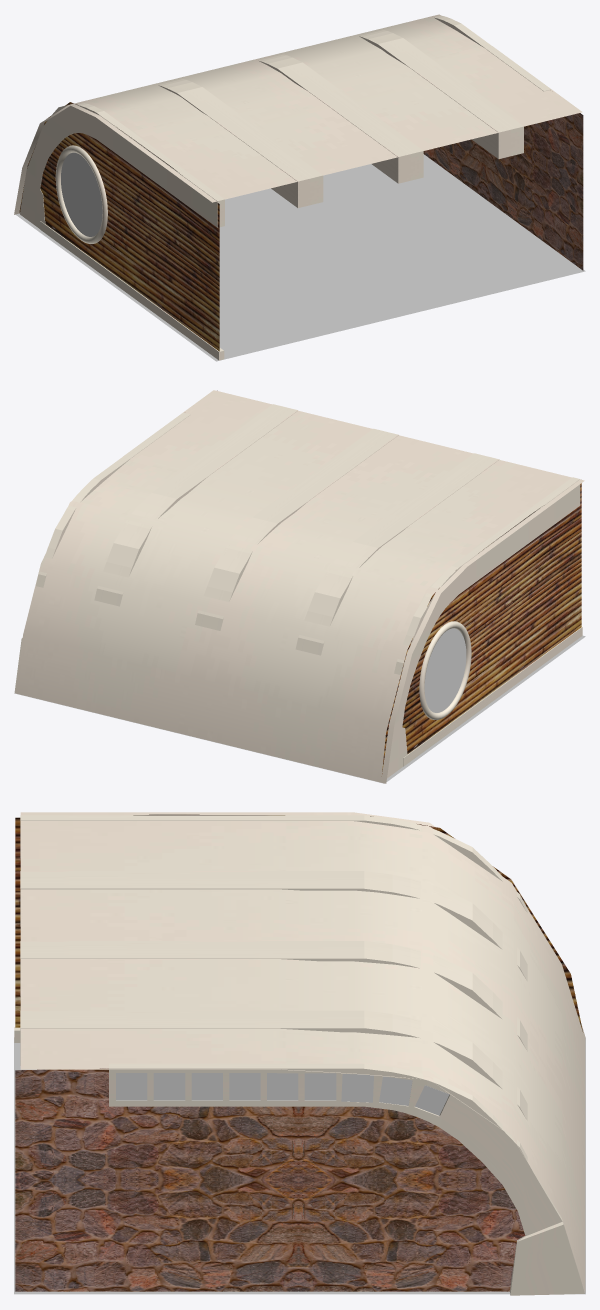
Rendered from entorno03.fbx.
The picture shows the model from 3 angles, top to bottom: view 1: azimuth 30°, elevation 25°; view 2: azimuth 150°, elevation 25°; view 3: azimuth 270°, elevation 25°; orthographic projection. The views are drawn at different scales.
Visible parts, largest first — view 1: Piso, Techo, paredBambu, BIGA, ParedPiedras, BigaPared, cristal, barraPiso, marcoCristal, BigaPared.001; view 2: Techo, BIGA, paredBambu, BigaPared, cristal, BigaPared.001, barraPiso, marcoCristal, Piso; view 3: Techo, ParedPiedras, BIGA, BigaPared.001, CuadradoCristal, BigaPared, Piso, paredBambu, CuCristal, CuCristal2, CuCristal3.
Boxes of the visible parts, box(x1,y1,x2,y2) form: Piso: box(15, 154, 585, 361); Techo: box(14, 14, 582, 214); paredBambu: box(19, 102, 219, 351); BIGA: box(158, 30, 523, 207); ParedPiedras: box(423, 113, 583, 270); BigaPared: box(20, 103, 224, 228); cristal: box(61, 152, 102, 236); barraPiso: box(40, 221, 224, 360); marcoCristal: box(55, 145, 107, 243); BigaPared.001: box(434, 15, 550, 91); Techo: box(15, 390, 584, 783); BIGA: box(94, 404, 499, 655); paredBambu: box(381, 483, 581, 776); BigaPared: box(387, 477, 580, 778); cristal: box(424, 628, 466, 712); BigaPared.001: box(14, 412, 190, 693); barraPiso: box(403, 627, 582, 766); marcoCristal: box(419, 621, 471, 719); Piso: box(14, 635, 585, 783); Techo: box(20, 812, 585, 1292); ParedPiedras: box(15, 1068, 525, 1291); BIGA: box(20, 871, 527, 1120); BigaPared.001: box(109, 1063, 584, 1295); CuadradoCristal: box(116, 1073, 336, 1100); BigaPared: box(20, 815, 527, 913); Piso: box(14, 1037, 585, 1294); paredBambu: box(15, 814, 583, 1032); CuCristal: box(341, 1074, 373, 1102); CuCristal2: box(379, 1076, 412, 1105); CuCristal3: box(415, 1085, 449, 1115).
Bounding box in the file's own units: 9035 × 3703 × 8454.
